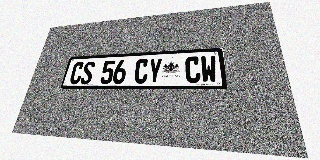5: (100, 60, 116, 84)
6: (112, 60, 128, 84)
C: (185, 56, 201, 83), (133, 59, 149, 84), (69, 62, 85, 84)
S: (79, 61, 96, 84)
W: (200, 55, 218, 83)
Y: (147, 58, 162, 84)
